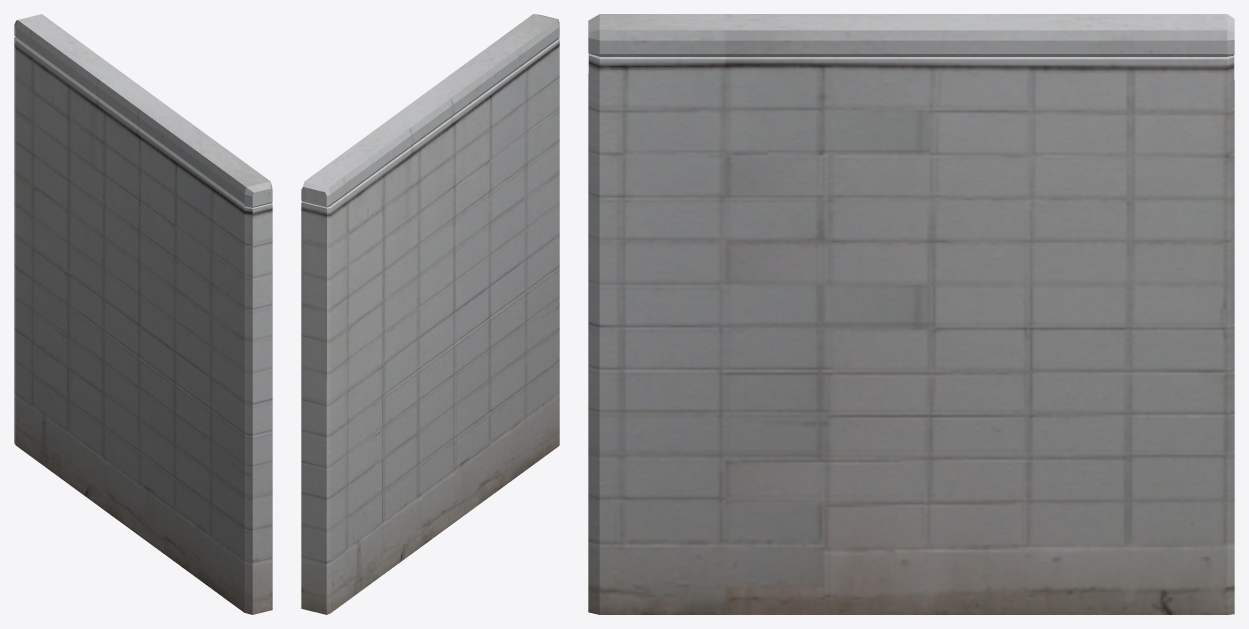
File: hfence02-1_LOD0.fbx
The picture shows the model from 3 angles, left to right: view 1: azimuth 30°, elevation 25°; view 2: azimuth 150°, elevation 25°; view 3: azimuth 270°, elevation 25°; orthographic projection. The views are drawn at different scales.
Parts seen in each view (by area): view 1: hfence02-1_LOD0; view 2: hfence02-1_LOD0; view 3: hfence02-1_LOD0.
Boxes of the visible parts, bbox=[...] form: hfence02-1_LOD0: bbox=[14, 14, 272, 614]; hfence02-1_LOD0: bbox=[301, 14, 559, 614]; hfence02-1_LOD0: bbox=[588, 14, 1234, 614].
Size of the model in its own units: 0.0664 by 0.9687 by 0.9726.
